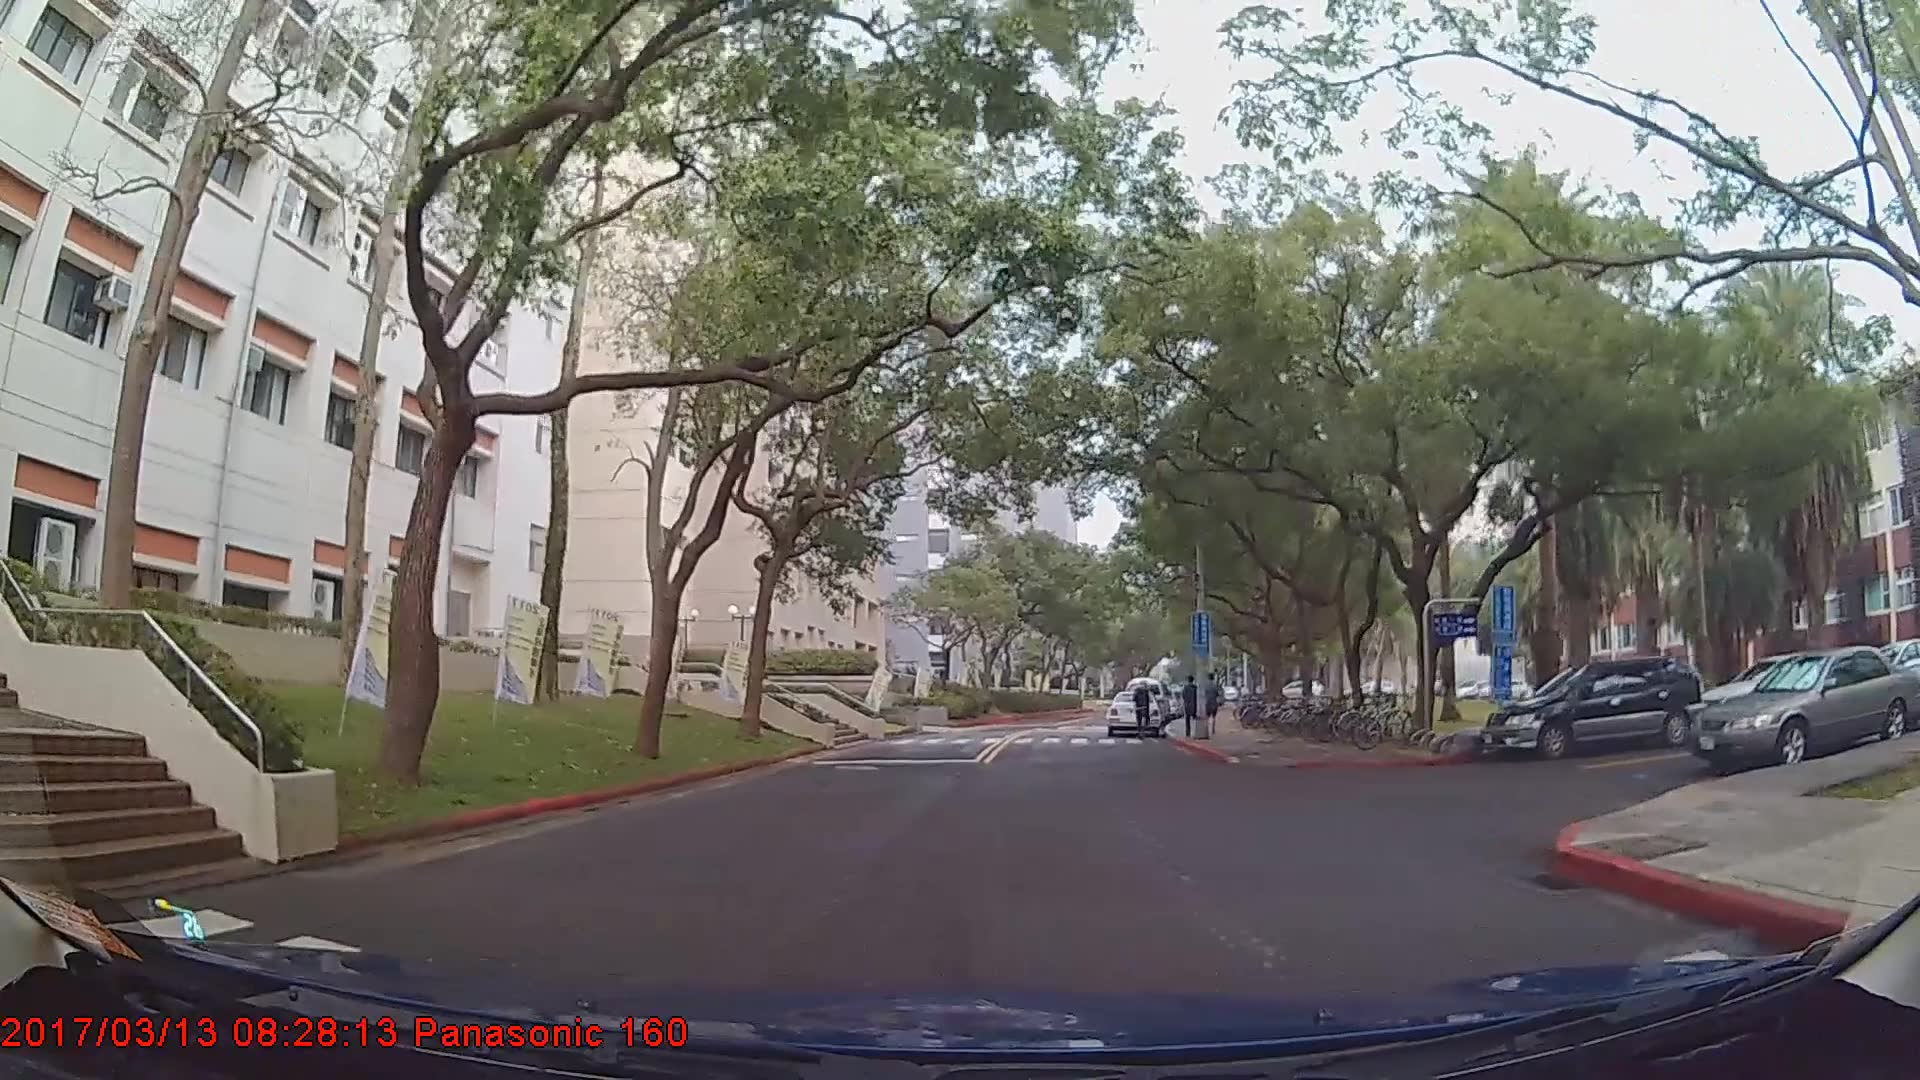pedestrian: (1183, 677, 1205, 735), (1133, 681, 1153, 742)
vehicle: (1687, 644, 1920, 772), (1481, 653, 1701, 762), (1102, 687, 1162, 734)
